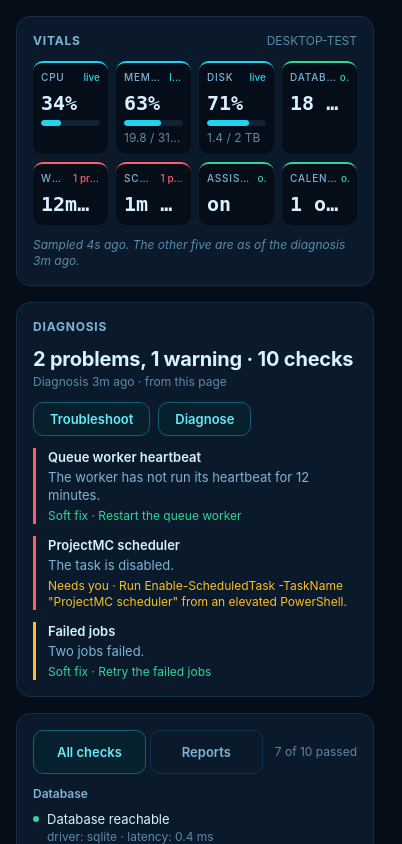
Test: the diagnosis › keeps the last report and shows the sentence when a run is refused
The image size is (402, 844).
Click the button with test id "stats-diagnose" at (205, 419), box [158,402,251,436]
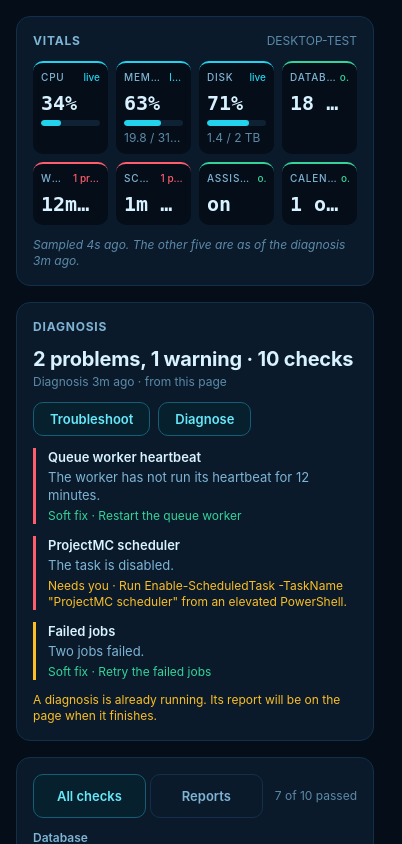
expect the text "2 problems, 1 warning · 10 checks" is shown: met, box [33,346,357,372]
expect the text "A diagnosis is already running" is shown: met, box [33,692,344,723]
